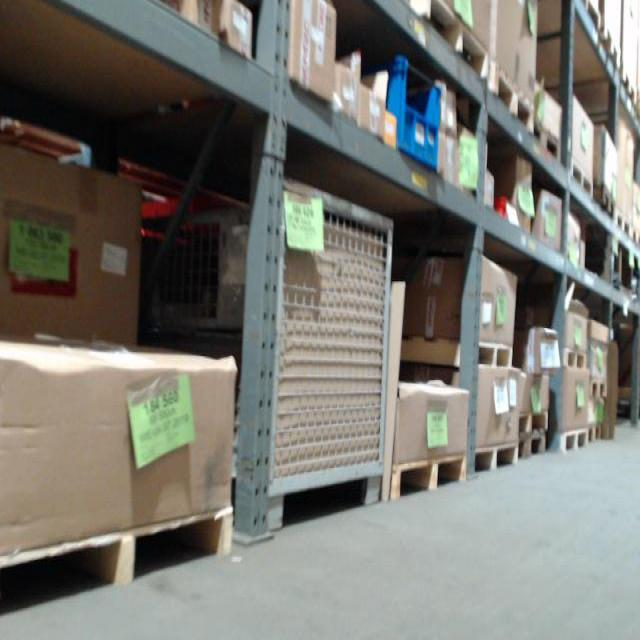pallet: (2, 503, 233, 612), (408, 0, 497, 84), (399, 333, 514, 376), (390, 452, 467, 502), (492, 55, 533, 133), (469, 437, 520, 475), (516, 430, 550, 464), (536, 121, 562, 163), (572, 158, 595, 196), (558, 426, 588, 455), (508, 410, 549, 430), (593, 183, 614, 222), (561, 348, 588, 372), (588, 375, 606, 399), (584, 424, 604, 444)
small_load_carrier: (367, 52, 445, 173), (493, 196, 520, 228)
stillage: (154, 166, 393, 536)
